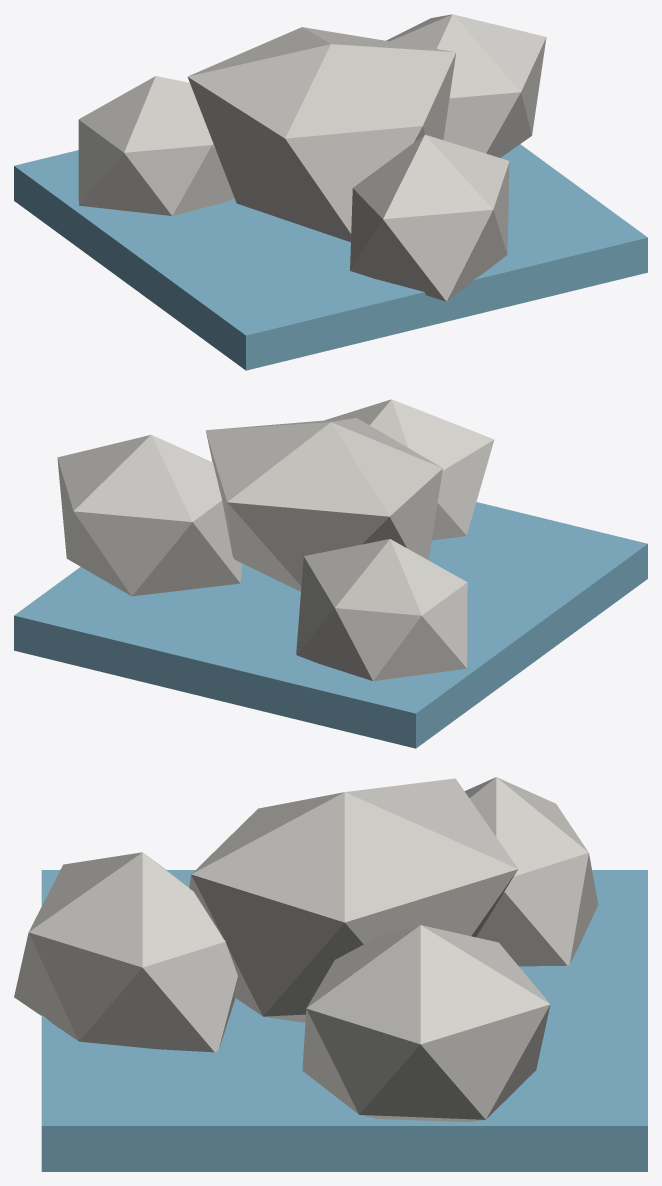
The model's file is clean_fe.fbx.
The picture shows the model from 3 angles, top to bottom: view 1: azimuth 30°, elevation 25°; view 2: azimuth 150°, elevation 25°; view 3: azimuth 270°, elevation 25°; orthographic projection. The views are drawn at different scales.
Visible parts, largest first — view 1: clean_fe; view 2: clean_fe; view 3: clean_fe.
Boxes of the visible parts, bbox=[...] form: clean_fe: bbox=[14, 14, 647, 370]; clean_fe: bbox=[14, 399, 647, 748]; clean_fe: bbox=[14, 777, 647, 1171].
Size of the model in its own units: 0.7981 by 0.3297 by 0.7527.
